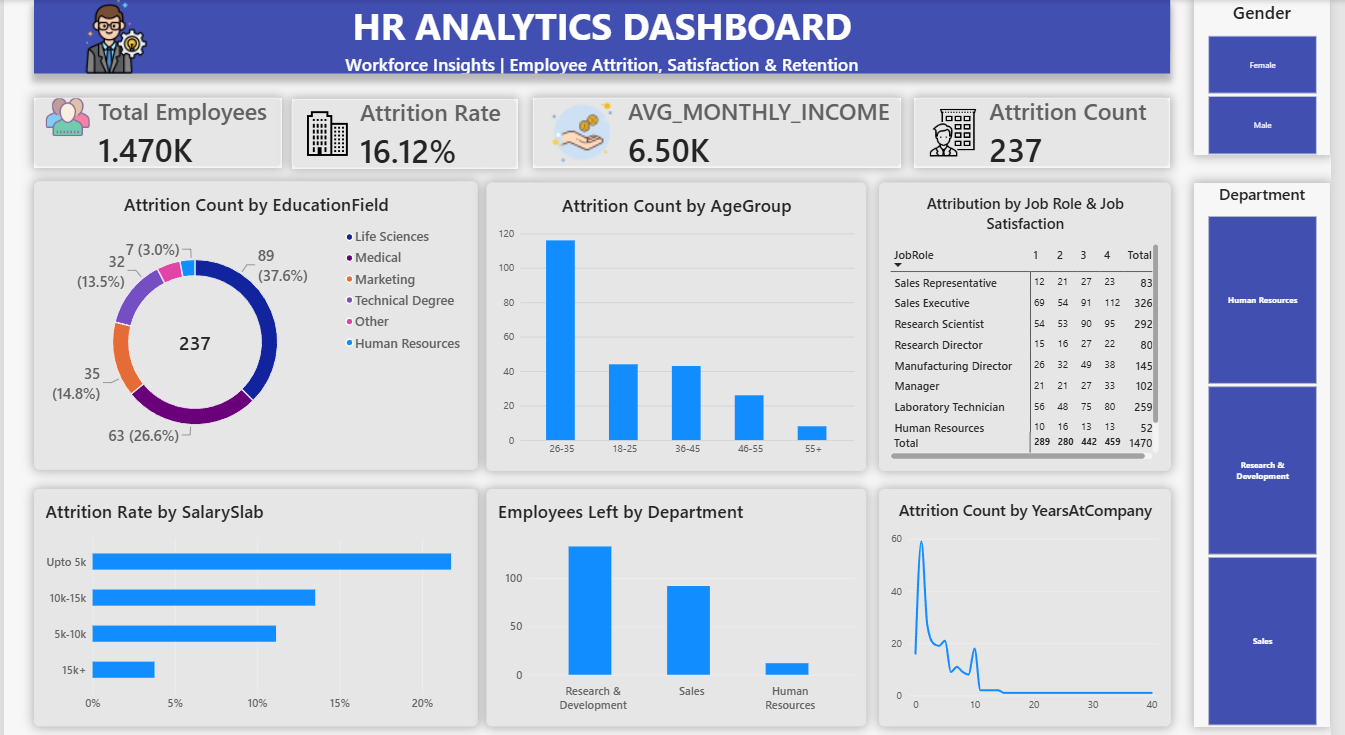

Layout of this report page (visuals, bound fields, positions):
{"tool":"powerbi","page":{"name":"Page 1","canvas":[1920,1080],"ordinal":0},"visuals":[{"type":"cardVisual","fields":{"Data":["HR_Analytics.Total Employees"]},"box":[43.4,141.2,358.3,101.3],"z":0},{"type":"cardVisual","fields":{"Data":["HR_Analytics.AVG_MONTHLY_INCOME"]},"box":[765.5,141.2,533.8,101.3],"z":1000},{"type":"cardVisual","fields":{"Data":["HR_Analytics.Attrition Rate"]},"box":[416.2,143,327.5,101.3],"z":2000},{"type":"donutChart","fields":{"Category":["HR_Analytics.EducationField"],"Y":["HR_Analytics.Attrition Count"]},"box":[43.3,261.9,642.8,417.7],"z":3000},{"type":"clusteredColumnChart","fields":{"Category":["HR_Analytics.AgeGroup"],"Y":["HR_Analytics.Attrition Count"]},"box":[699,264,549.7,417.7],"z":4000},{"type":"barChart","fields":{"Category":["HR_Analytics.SalarySlab"],"Y":["HR_Analytics.Attrition Rate"]},"box":[43.3,707.7,642.8,344.1],"z":4001},{"type":"pivotTable","title":"Attribution by Job Role & Job Satisfaction","fields":{"Columns":["HR_Analytics.JobSatisfaction"],"Rows":["HR_Analytics.JobRole"],"Values":["Count(HR_Analytics.EmployeeNumber)"]},"box":[1266.8,264.2,422,417.7],"z":4002},{"type":"lineChart","fields":{"Category":["HR_Analytics.YearsAtCompany"],"Y":["HR_Analytics.Attrition Count"]},"box":[1266,707.7,422,344.1],"z":4003},{"type":"clusteredColumnChart","fields":{"Category":["HR_Analytics.Department"],"Y":["HR_Analytics.Employees Left"]},"box":[699,707.7,549.7,344.1],"z":4004},{"type":"slicer","title":"Department","fields":{"Values":["HR_Analytics.Department"]},"box":[1722.7,264,196.9,787.7],"z":4006},{"type":"cardVisual","fields":{"Data":["HR_Analytics.Attrition Count"]},"box":[1317.4,141.2,371,101.3],"z":4007},{"type":"textbox","title":"HR ANALYTICS DASHBOARD","box":[43.3,0,1644.7,106],"z":4008},{"type":"image","box":[43.3,0,238.1,106],"z":4009},{"type":"slicer","title":"Gender","fields":{"Values":["HR_Analytics.Gender"]},"box":[1722.7,0,196.9,225.1],"z":4010}]}

Visuals, with their boxes in screenshot pixels (x1, y1, x2, y2), scaled from the page's 1920x1080 canvas onto the 1345x735 screenshot:
cardVisual - HR_Analytics.Total Employees: box(30, 96, 281, 165)
cardVisual - HR_Analytics.AVG_MONTHLY_INCOME: box(536, 96, 910, 165)
cardVisual - HR_Analytics.Attrition Rate: box(292, 97, 521, 166)
donutChart - HR_Analytics.EducationField x HR_Analytics.Attrition Count: box(30, 178, 481, 463)
clusteredColumnChart - HR_Analytics.AgeGroup x HR_Analytics.Attrition Count: box(490, 180, 875, 464)
barChart - HR_Analytics.SalarySlab x HR_Analytics.Attrition Rate: box(30, 482, 481, 716)
"Attribution by Job Role & Job Satisfaction" pivotTable: box(887, 180, 1183, 464)
lineChart - HR_Analytics.YearsAtCompany x HR_Analytics.Attrition Count: box(887, 482, 1182, 716)
clusteredColumnChart - HR_Analytics.Department x HR_Analytics.Employees Left: box(490, 482, 875, 716)
"Department" slicer: box(1207, 180, 1344, 716)
cardVisual - HR_Analytics.Attrition Count: box(923, 96, 1183, 165)
"HR ANALYTICS DASHBOARD" textbox: box(30, 0, 1182, 72)
image: box(30, 0, 197, 72)
"Gender" slicer: box(1207, 0, 1344, 153)
